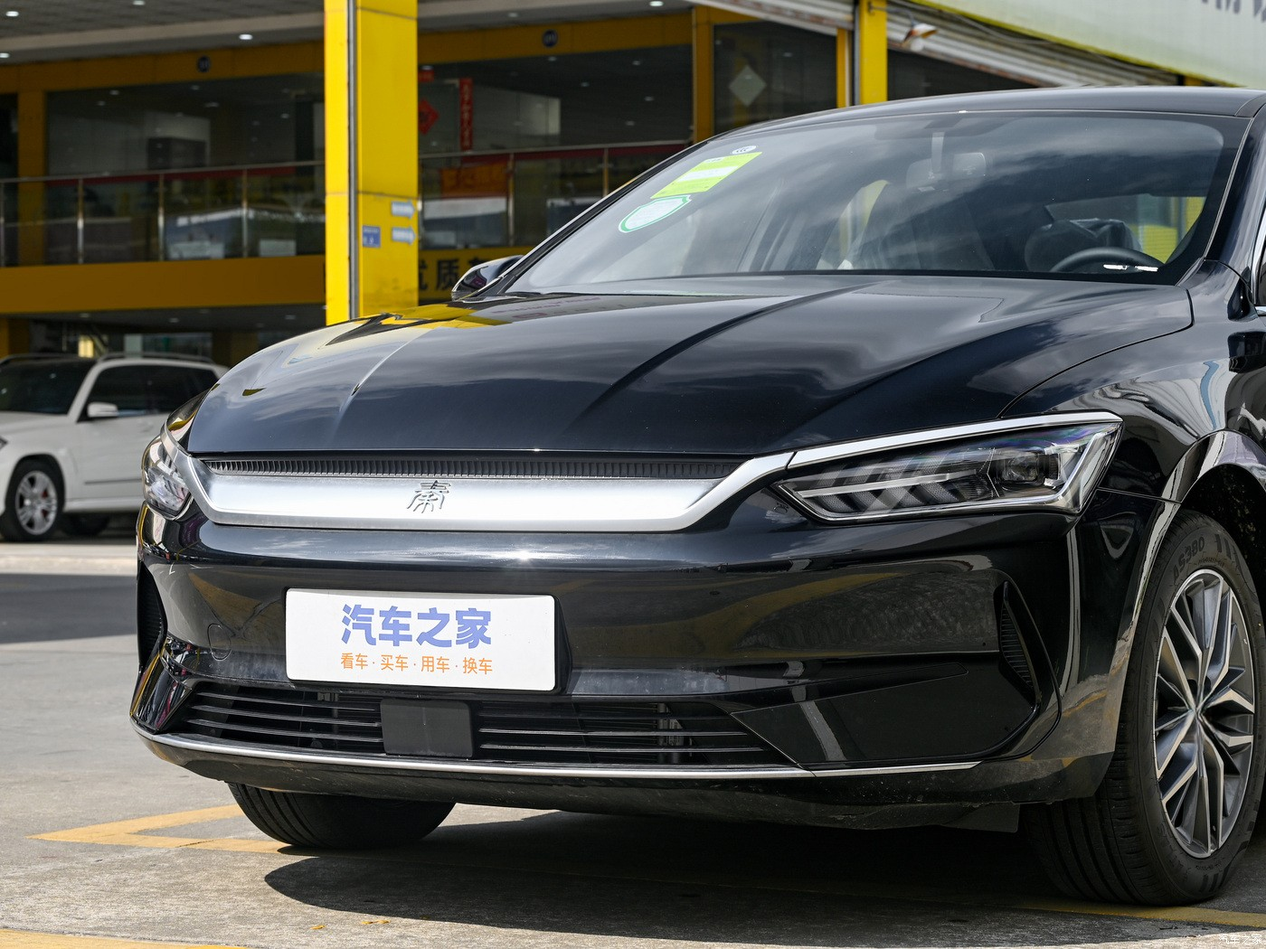BYD Qin: (407, 481, 449, 512)
